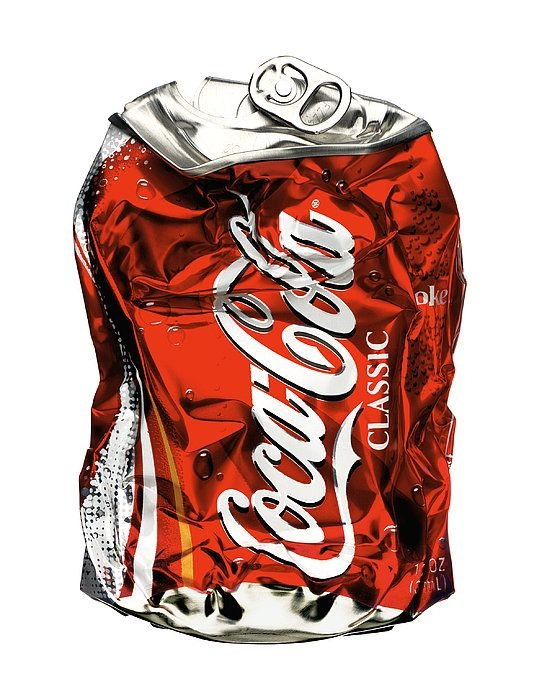metal: (56, 44, 485, 655)
